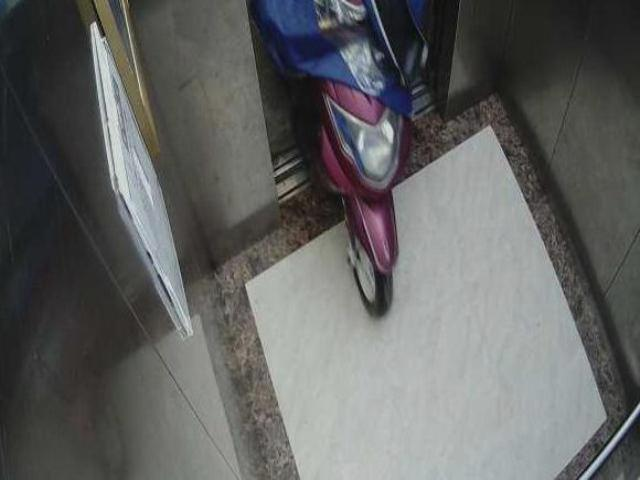emotor: (285, 1, 428, 319)
